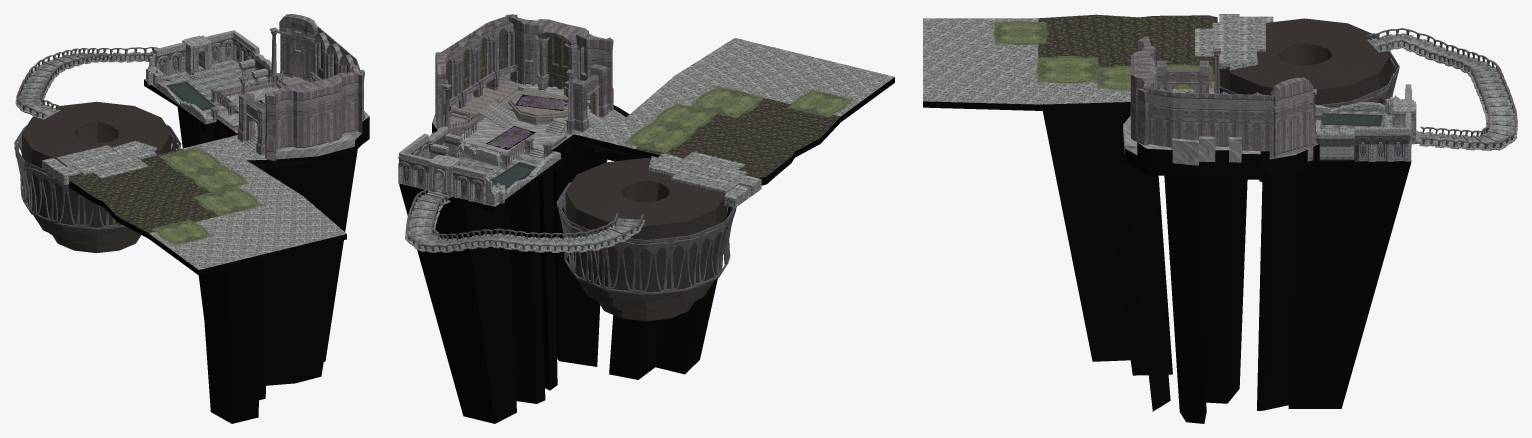
The model's file is MapBase.glb.
3 renders of one model, left to right at view 1: azimuth 30°, elevation 25°; view 2: azimuth 150°, elevation 25°; view 3: azimuth 270°, elevation 25°, orthographic. The views are drawn at different scales.
Parts seen in each view (by area): view 1: Floorroom1, Cylinder.002, bigwall2, BigBridge, Cube.007, GraveyardUnderFence, bigcorner, criptwalls, Bigwall1, roguegrass3, ballroomentrence, roguegrass1 (+7 smaller); view 2: Floorroom1, Cylinder.002, BigBridge, GraveyardUnderFence, bigwall2, Bigwall1, Cube.007, criptwalls, ballroomentrence, roguegrass3, roguegrass1, podium (+11 smaller); view 3: Floorroom1, Cylinder.002, Bigwall1, BigBridge, bigcorner, Cube.007, criptwalls, bigwall2, roguegrass3, Plane.029, ballroomentrence, Walleft (+4 smaller).
Part boxes in pixels (x1=…): Floorroom1: x1=69, y1=59, x2=369, y2=423; Cylinder.002: x1=22, y1=101, x2=171, y2=252; bigwall2: x1=265, y1=69, x2=365, y2=161; BigBridge: x1=15, y1=47, x2=158, y2=119; Cube.007: x1=42, y1=140, x2=156, y2=184; GraveyardUnderFence: x1=14, y1=124, x2=181, y2=229; bigcorner: x1=277, y1=14, x2=317, y2=81; criptwalls: x1=154, y1=30, x2=259, y2=76; Bigwall1: x1=309, y1=26, x2=360, y2=81; roguegrass3: x1=191, y1=186, x2=263, y2=216; ballroomentrence: x1=237, y1=92, x2=265, y2=155; roguegrass1: x1=157, y1=147, x2=226, y2=176; Floorroom1: x1=399, y1=38, x2=894, y2=423; Cylinder.002: x1=565, y1=158, x2=726, y2=321; BigBridge: x1=405, y1=188, x2=644, y2=252; GraveyardUnderFence: x1=556, y1=182, x2=736, y2=294; bigwall2: x1=505, y1=14, x2=613, y2=110; Bigwall1: x1=441, y1=14, x2=517, y2=115; Cube.007: x1=648, y1=151, x2=761, y2=207; criptwalls: x1=398, y1=133, x2=487, y2=204; ballroomentrence: x1=573, y1=64, x2=608, y2=132; roguegrass3: x1=689, y1=86, x2=765, y2=118; roguegrass1: x1=622, y1=120, x2=698, y2=153; podium: x1=500, y1=87, x2=591, y2=124; Floorroom1: x1=923, y1=14, x2=1411, y2=423; Cylinder.002: x1=1219, y1=18, x2=1390, y2=181; Bigwall1: x1=1143, y1=87, x2=1273, y2=158; BigBridge: x1=1367, y1=28, x2=1517, y2=150; bigcorner: x1=1270, y1=77, x2=1314, y2=161; Cube.007: x1=1195, y1=14, x2=1273, y2=70; criptwalls: x1=1354, y1=84, x2=1411, y2=161; bigwall2: x1=1130, y1=36, x2=1158, y2=145; roguegrass3: x1=1036, y1=56, x2=1098, y2=83; Plane.029: x1=993, y1=21, x2=1048, y2=44; ballroomentrence: x1=1157, y1=60, x2=1208, y2=93; Walleft: x1=1316, y1=129, x2=1353, y2=160.
Size of the model in its own units: 175 by 179 by 274.
14 materials, 13 textured.
